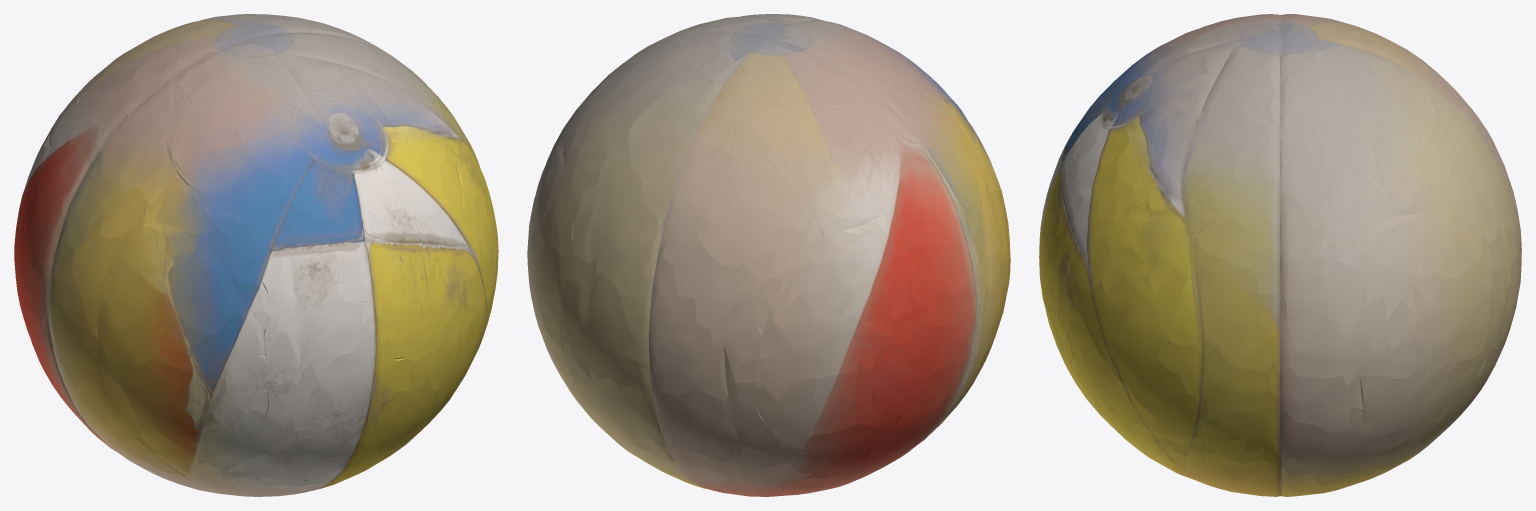
Rendered from pallone_gonfio_a.glb.
The picture shows the model from 3 angles, left to right: view 1: azimuth 30°, elevation 25°; view 2: azimuth 150°, elevation 25°; view 3: azimuth 270°, elevation 25°; orthographic projection.
Parts seen in each view (by area): view 1: Mesh_0; view 2: Mesh_0; view 3: Mesh_0.
Boxes of the visible parts, x1,y1,x2,y2 form: Mesh_0: (14, 14, 498, 496); Mesh_0: (527, 14, 1010, 496); Mesh_0: (1039, 14, 1521, 496).
Bounding box in the file's own units: 1.9 × 1.9 × 1.9.
Materials: 1 (1 with a texture image).
